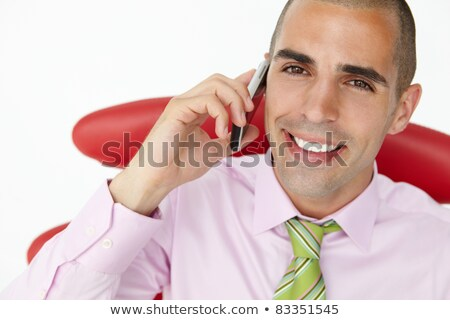phone: (225, 51, 274, 158)
talk: (151, 39, 391, 205)
